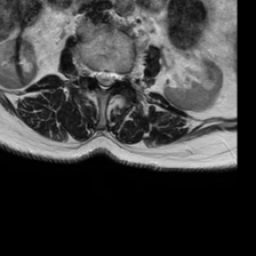CCS_normal: (101, 62, 107, 100)
LFS_normal: (115, 63, 123, 87)
LLS_normal: (107, 63, 115, 91)
RFS_normal: (86, 60, 94, 83)
RLS_normal: (94, 61, 101, 91)
